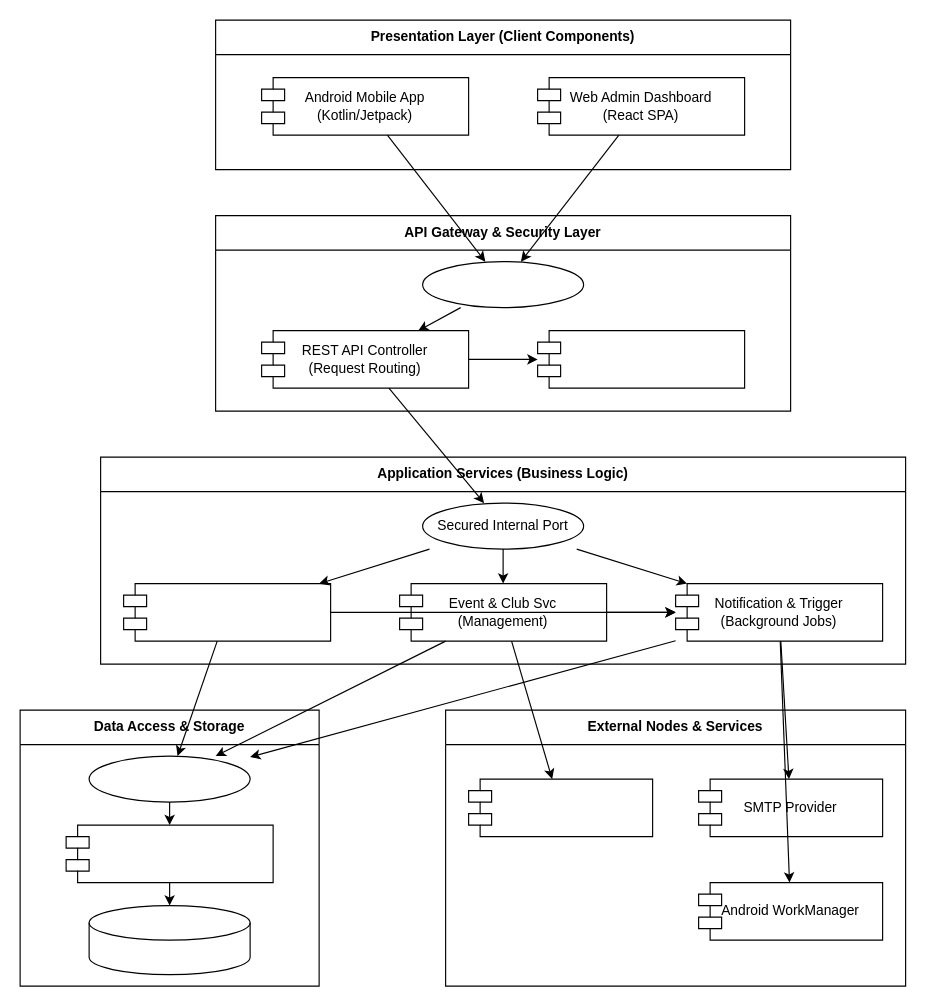
Some shapes in this 926 by 1006 pixel diagram are drawn without their labels. The shapes that lost their labels are listed below. From the top down, each one's centre as x and y in pixels, then its label:
point (502, 284): REST / JSON Interface
point (640, 358): JWT Auth Module (Token & Roles)
point (226, 611): Facility Booking Svc (Rooms & Sports)
point (169, 778): ORM / Data Interface
point (560, 807): Social Media APIs
point (169, 853): Data Access / ORM
point (169, 939): Primary Database (PostgreSQL / MySQL)
